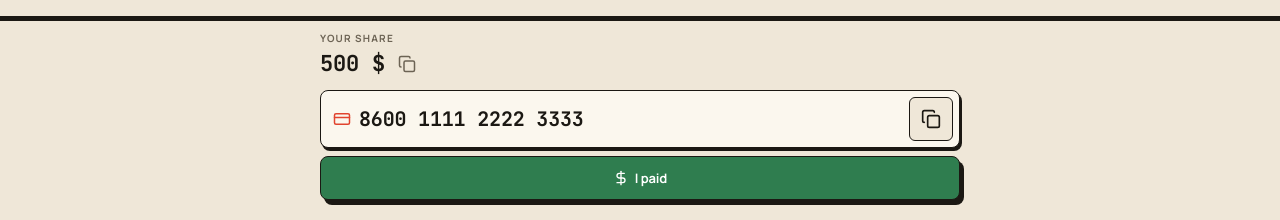
Scenario: BillPaymentDock participant states › copies the card from beside its number, with «I paid» on its own under it
This screenshot has width=1280, height=220.
Click the button named "Copy card". click: (931, 119)
box: top-left (909, 97), bottom-right (953, 141)
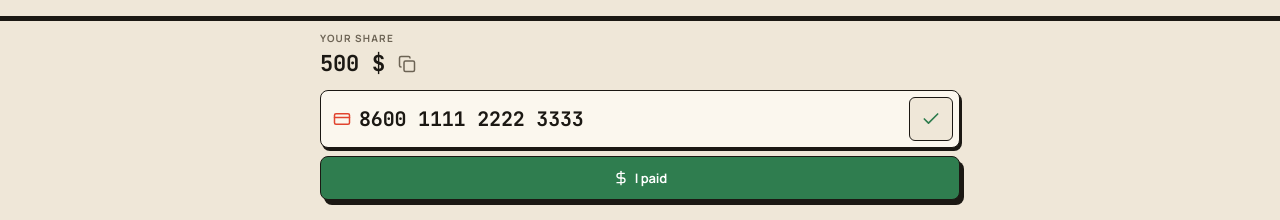
Expected: the 3rd icon has class "text-success", top-left (921, 109), bottom-right (941, 129)
